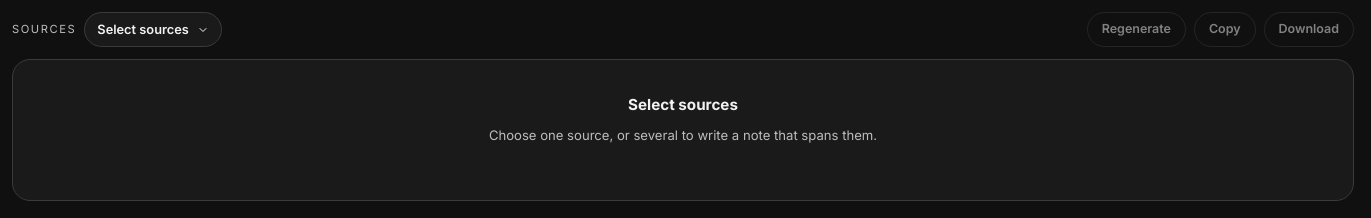
NotePanel source selection › closes the picker on Escape
Click the button "Select sources".
click(153, 30)  # box [84,12,222,47]
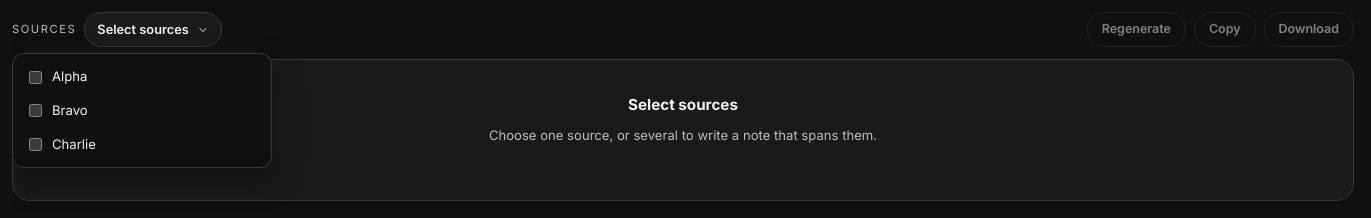
Expected: the number of checkboxes is 3, [29,70,42,84]; [29,104,42,117]; [29,138,42,151]
Press Escape
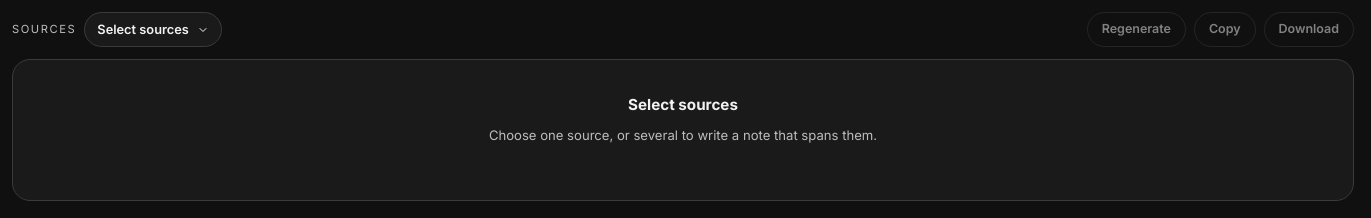
Expected: no checkboxes are shown
